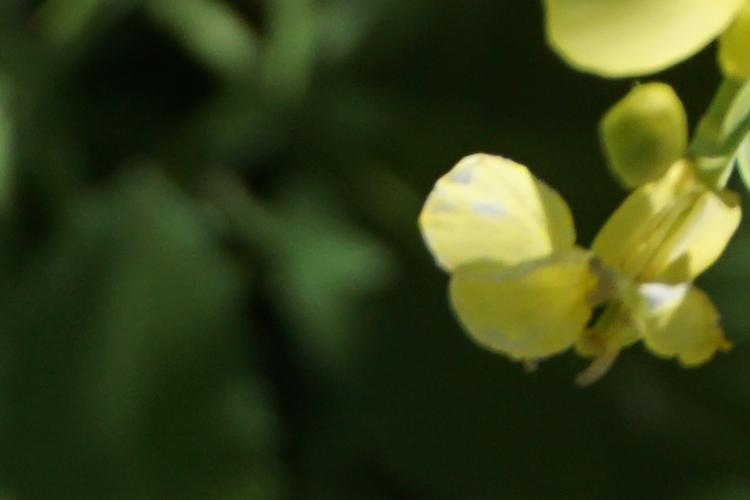yellow: (416, 118, 736, 382)
